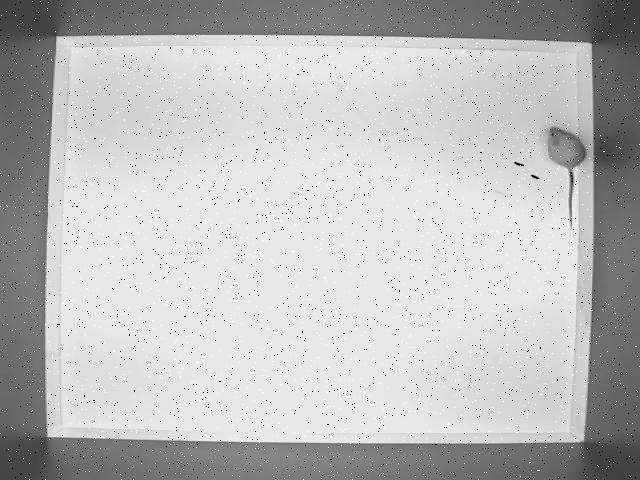Tikus: (542, 122, 590, 228)
